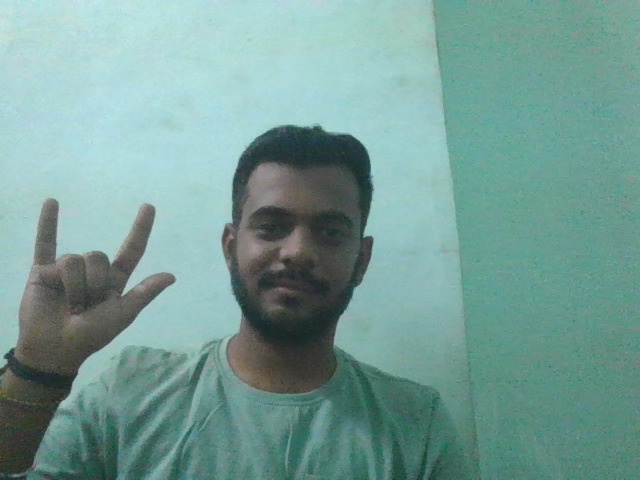iloveyou: (18, 184, 175, 403)
